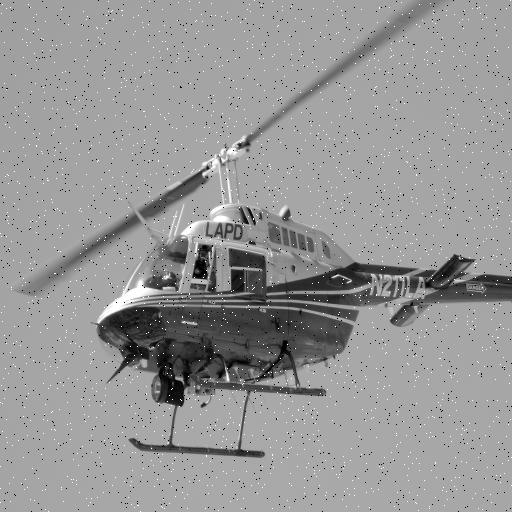helicopter: (14, 1, 512, 477)
